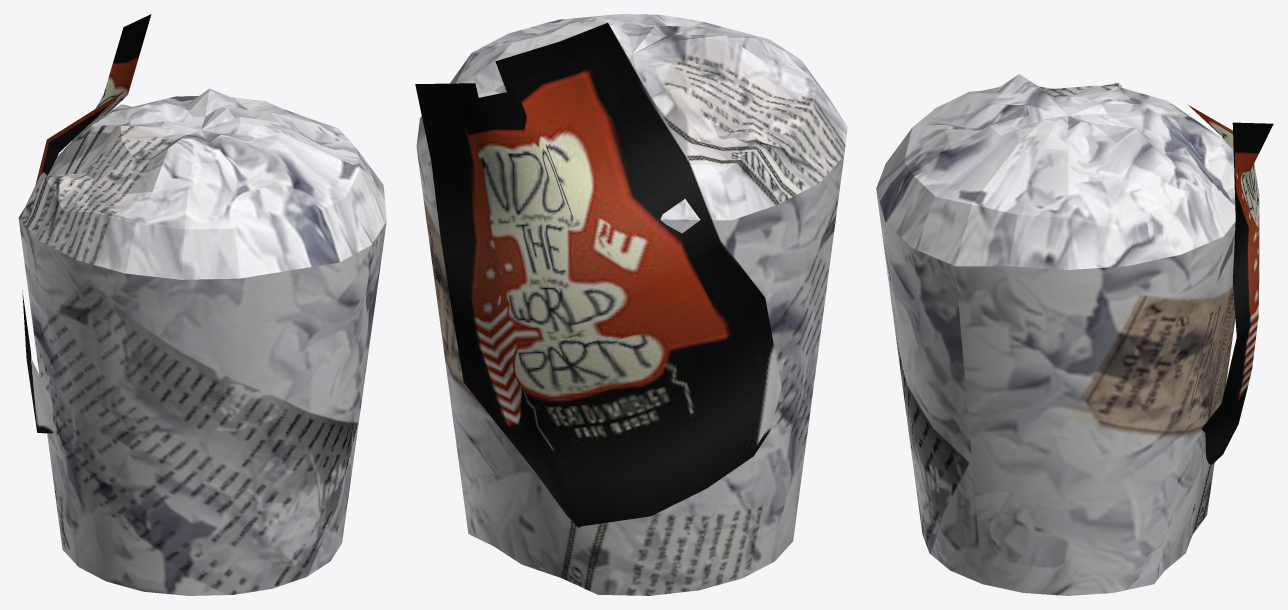
File: basura.gltf
3 renders of one model, left to right at view 1: azimuth 30°, elevation 25°; view 2: azimuth 150°, elevation 25°; view 3: azimuth 270°, elevation 25°, orthographic. The views are drawn at different scales.
Visible parts, largest first — view 1: trash; view 2: trash; view 3: trash.
Part boxes in pixels (x1,y1,x2,y2): trash: [18, 14, 386, 595]; trash: [415, 14, 847, 595]; trash: [876, 74, 1273, 595].
Size of the model in its own units: 0.2285 by 0.3287 by 0.2365.
Materials: 1 (1 with a texture image).
